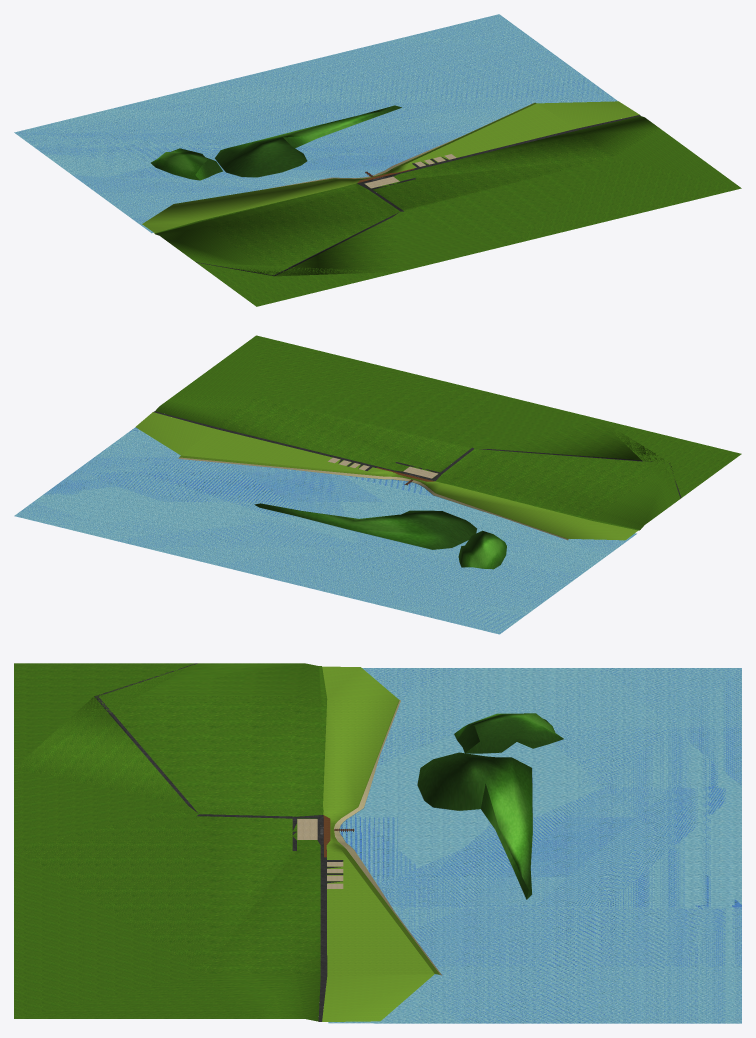
The model's file is ENVO_campsite.obj.
3 renders of one model, top to bottom at view 1: azimuth 30°, elevation 25°; view 2: azimuth 150°, elevation 25°; view 3: azimuth 270°, elevation 25°, orthographic. The views are drawn at different scales.
Visible parts, largest first — view 1: campsite; view 2: campsite; view 3: campsite.
Boxes of the visible parts, bbox=[...] form: campsite: bbox=[14, 14, 741, 306]; campsite: bbox=[14, 335, 741, 634]; campsite: bbox=[14, 663, 741, 1023].
Size of what is drawn, in the model's own units: 21364 by 836 by 18446.
Materials: 11 (11 with a texture image).
